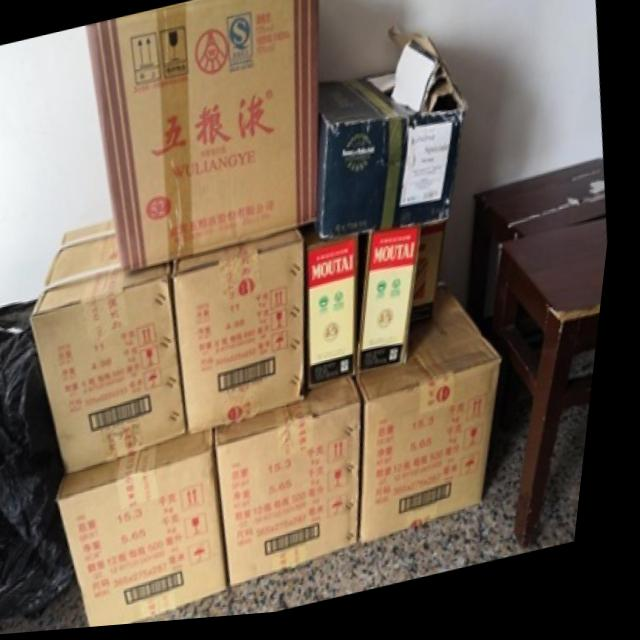box: (87, 0, 324, 277), (40, 222, 198, 478), (362, 284, 508, 552), (307, 36, 470, 244), (70, 433, 242, 630), (224, 385, 371, 592), (181, 235, 316, 440), (363, 233, 423, 383), (309, 242, 364, 395), (418, 230, 453, 335)
